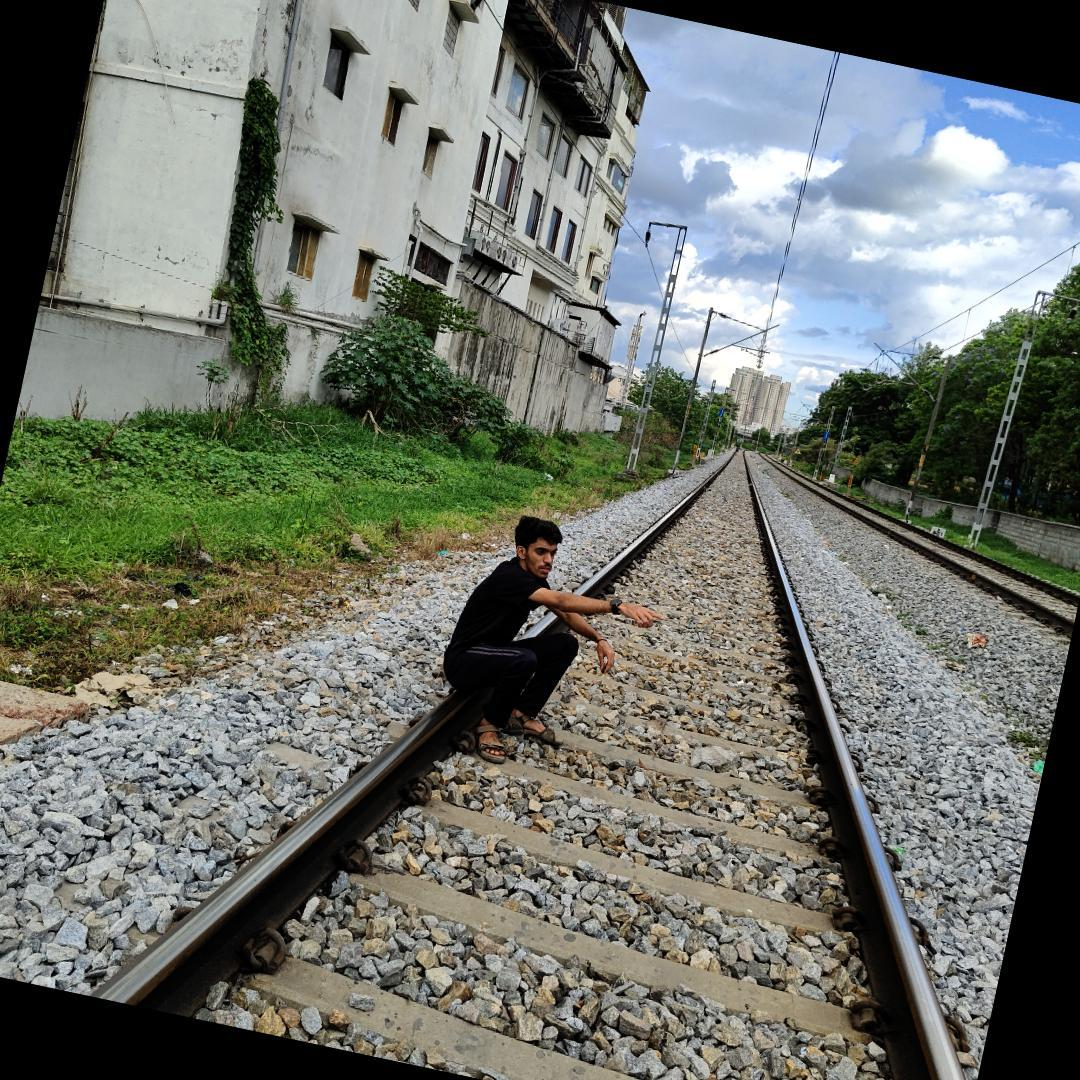sitting: (415, 494, 607, 774)
